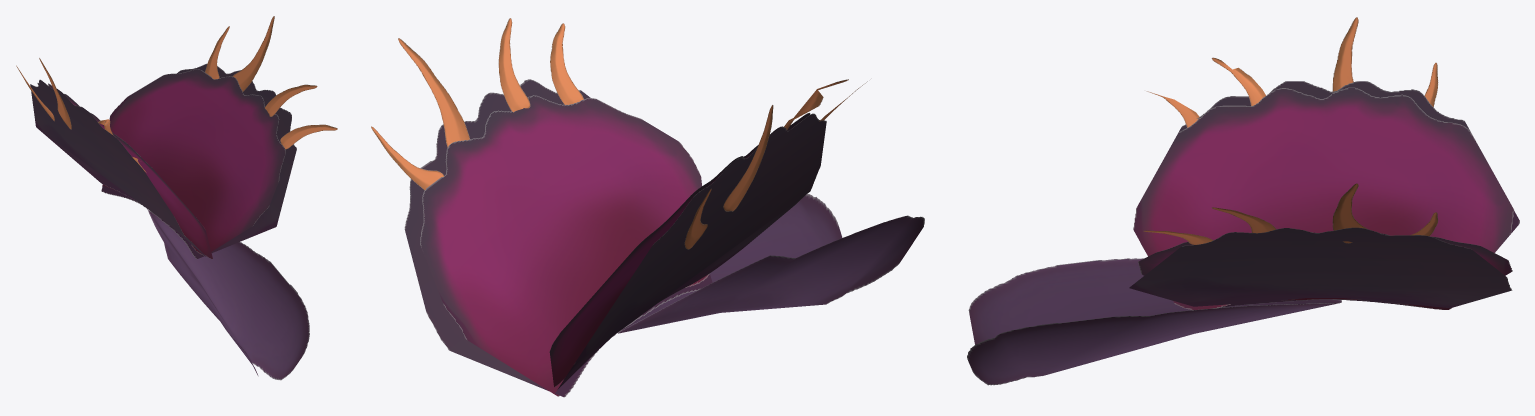
File: PROP_flyTrap_02_block.fbx
3 views of the same model, side by side, from view 1: azimuth 30°, elevation 25°; view 2: azimuth 150°, elevation 25°; view 3: azimuth 270°, elevation 25° (orthographic). The views are drawn at different scales.
Parts seen in each view (by area): view 1: PROP_flyTrap_02_block; view 2: PROP_flyTrap_02_block; view 3: PROP_flyTrap_02_block.
Part boxes in pixels (left/top/right/bottom): PROP_flyTrap_02_block: left=16, top=16, right=337, bottom=380; PROP_flyTrap_02_block: left=371, top=18, right=924, bottom=397; PROP_flyTrap_02_block: left=967, top=17, right=1519, bottom=385.
Bounding box in the file's own units: 54.18 × 56.99 × 86.83.
1 material, 1 textured.
